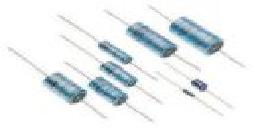Electrolytic-Capacitor: (168, 15, 237, 51), (125, 20, 188, 58), (88, 75, 135, 108), (43, 71, 87, 106), (100, 39, 145, 65), (101, 60, 142, 85), (190, 77, 210, 93), (182, 87, 195, 100)
